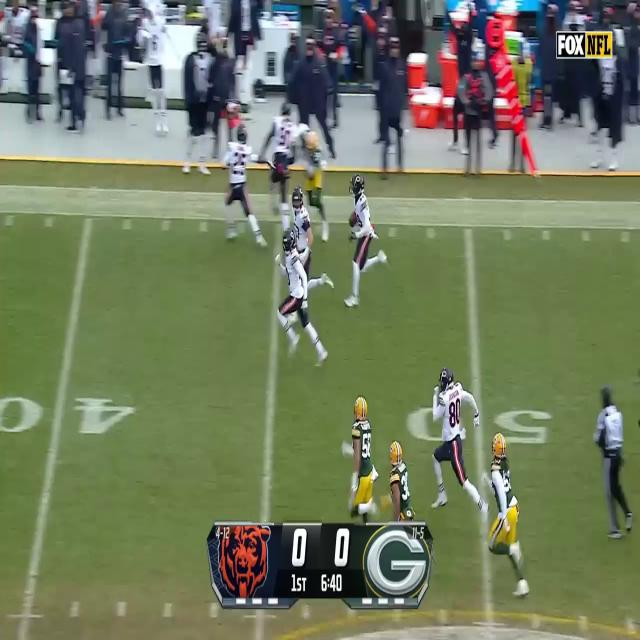Player: (431, 366, 473, 510), (487, 430, 521, 593), (278, 225, 310, 371), (344, 172, 375, 310), (349, 392, 378, 524), (224, 125, 253, 251), (272, 102, 294, 220), (384, 440, 416, 520), (292, 190, 314, 270)
Referee: (594, 383, 635, 544)
